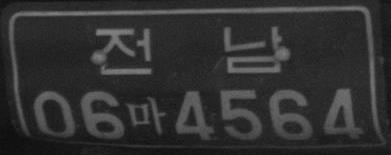0: (30, 89, 77, 139)
4: (323, 87, 364, 138), (174, 90, 214, 140)
5: (219, 88, 263, 142)
6: (268, 87, 314, 142), (79, 90, 126, 140)
마: (127, 95, 166, 135)
전남_D: (94, 25, 282, 75)
